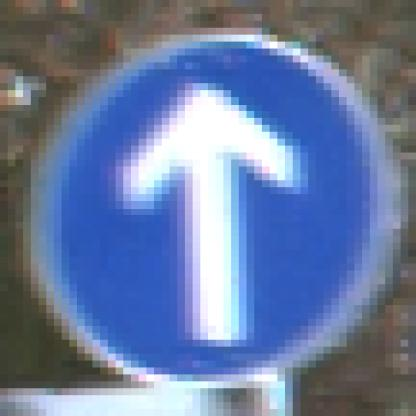AheadOnly: (40, 36, 379, 382)
